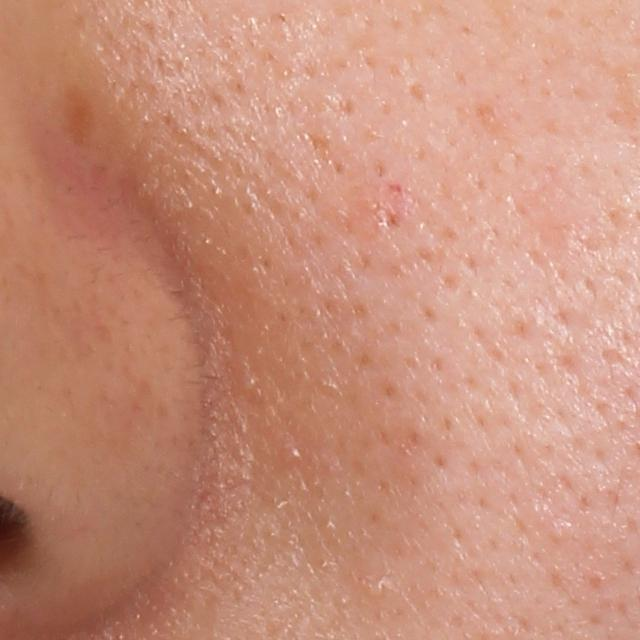comedo: (364, 575, 393, 604)
melasma: (58, 72, 97, 149)
